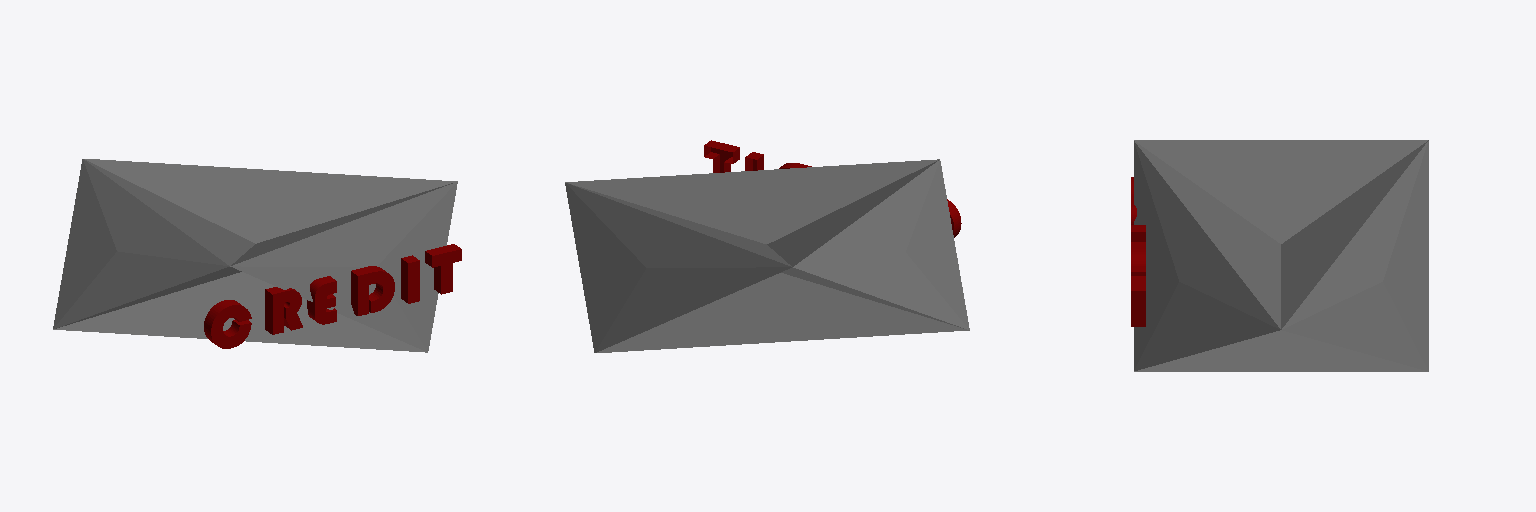
File: credit.obj
The picture shows the model from 3 angles: view 1: azimuth 30°, elevation 25°; view 2: azimuth 150°, elevation 25°; view 3: azimuth 270°, elevation 25°; orthographic projection.
Parts seen in each view (by area): view 1: Hedra004, Text003; view 2: Hedra004, Text003; view 3: Hedra004, Text003.
Part boxes in pixels (bbox=[...]): Hedra004: bbox=[53, 159, 457, 352]; Text003: bbox=[204, 244, 461, 348]; Hedra004: bbox=[565, 159, 969, 352]; Text003: bbox=[704, 140, 961, 237]; Hedra004: bbox=[1134, 140, 1428, 371]; Text003: bbox=[1131, 177, 1145, 326].
Bounding box in the file's own units: 108 × 34.26 × 68.59.